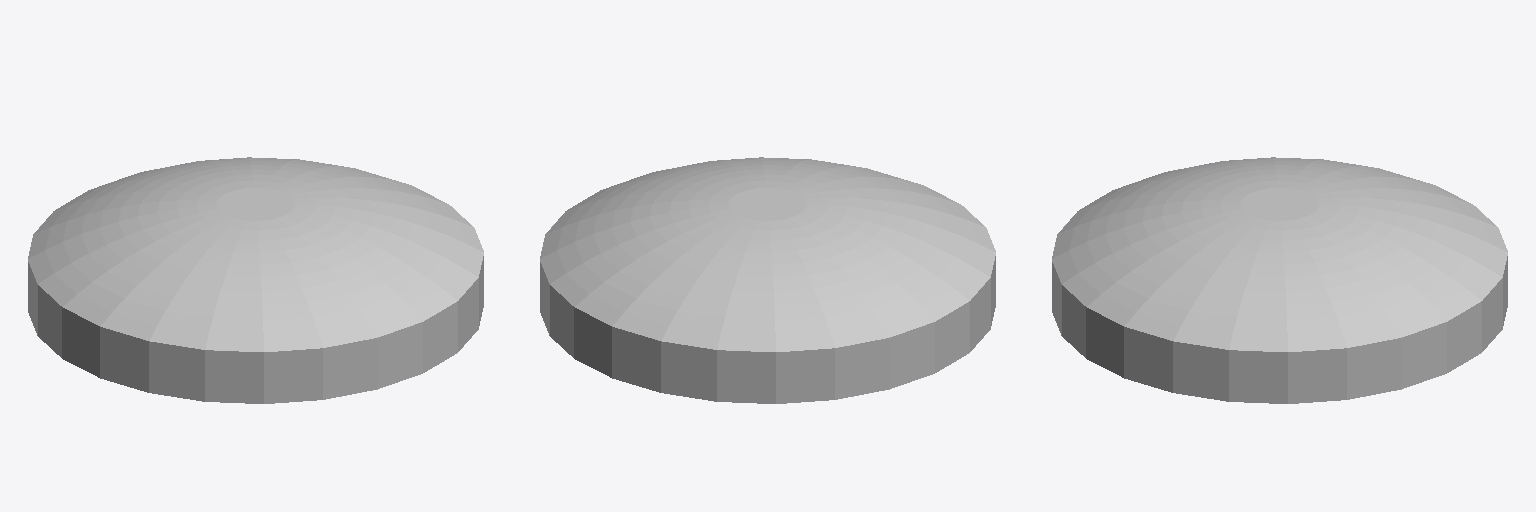
The model's file is original-4.obj.
3 renders of one model, left to right at view 1: azimuth 30°, elevation 25°; view 2: azimuth 150°, elevation 25°; view 3: azimuth 270°, elevation 25°, orthographic.
Visible parts, largest first — view 1: mesh4/mesh4-geometry#mesh4-geometry; view 2: mesh4/mesh4-geometry#mesh4-geometry; view 3: mesh4/mesh4-geometry#mesh4-geometry.
Part boxes in pixels (x1,y1,x2,y2): mesh4/mesh4-geometry#mesh4-geometry: (28,157,483,403); mesh4/mesh4-geometry#mesh4-geometry: (540,157,995,403); mesh4/mesh4-geometry#mesh4-geometry: (1052,157,1507,403).
Size of the model in its own units: 0.0938 by 0.0235 by 0.0938.